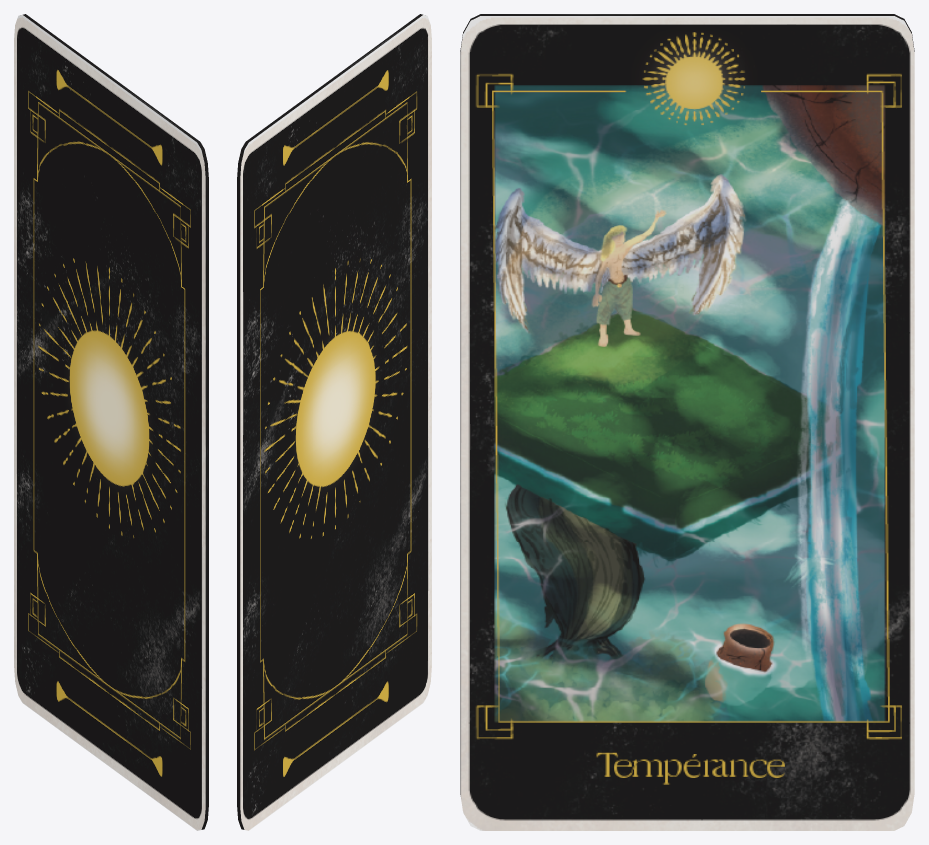
Rendered from temperance.gltf.
3 renders of one model, left to right at view 1: azimuth 30°, elevation 25°; view 2: azimuth 150°, elevation 25°; view 3: azimuth 270°, elevation 25°, orthographic. The views are drawn at different scales.
Parts seen in each view (by area): view 1: 2 Batons; view 2: 2 Batons; view 3: 2 Batons.
Part boxes in pixels (box(x1,y1,x2,y2)): 2 Batons: box(14, 14, 208, 830); 2 Batons: box(237, 14, 431, 830); 2 Batons: box(460, 14, 914, 830).
Bounding box in the file's own units: 0.0191 × 3.96 × 2.
1 material, 1 textured.
